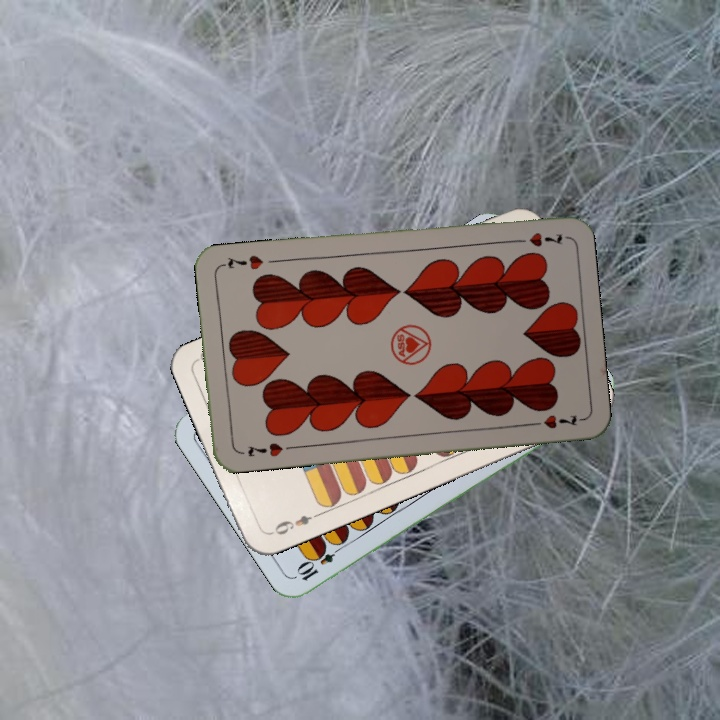E10: (293, 539, 347, 584)
E9: (265, 509, 322, 538)
H7: (508, 228, 565, 249), (243, 438, 285, 460)
